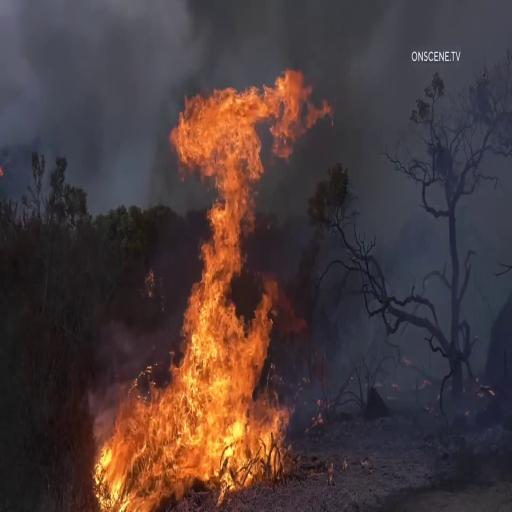fire: (97, 79, 326, 512)
